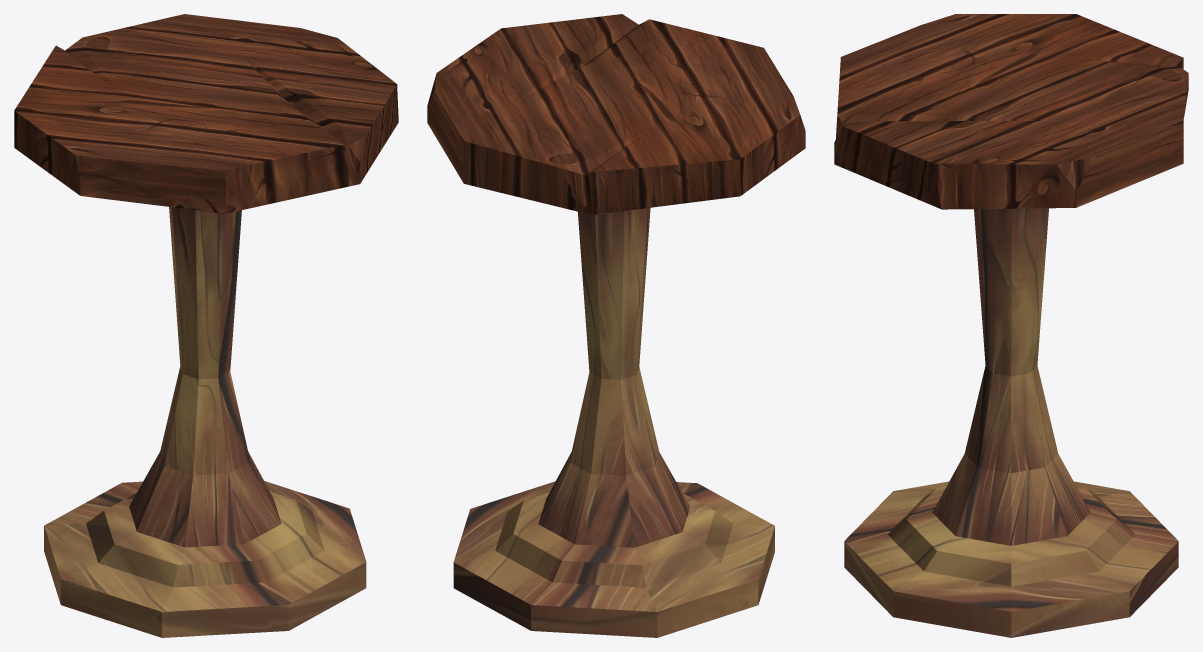
The model's file is Chair.fbx.
3 renders of one model, left to right at view 1: azimuth 30°, elevation 25°; view 2: azimuth 150°, elevation 25°; view 3: azimuth 270°, elevation 25°, orthographic.
Visible parts, largest first — view 1: SM_Prop_Stool_04; view 2: SM_Prop_Stool_04; view 3: SM_Prop_Stool_04.
Part boxes in pixels (box(x1,y1,x2,y2)): SM_Prop_Stool_04: box(14, 14, 398, 637); SM_Prop_Stool_04: box(427, 14, 805, 637); SM_Prop_Stool_04: box(834, 14, 1188, 637).
Bounding box in the file's own units: 46.98 × 67.47 × 45.29.
